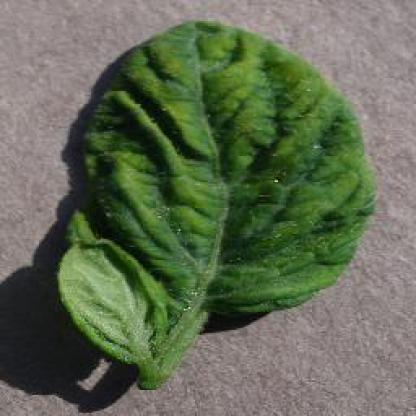bad leaf: (141, 27, 334, 152), (204, 170, 382, 300), (84, 94, 226, 248), (188, 110, 369, 203), (65, 246, 202, 366)
